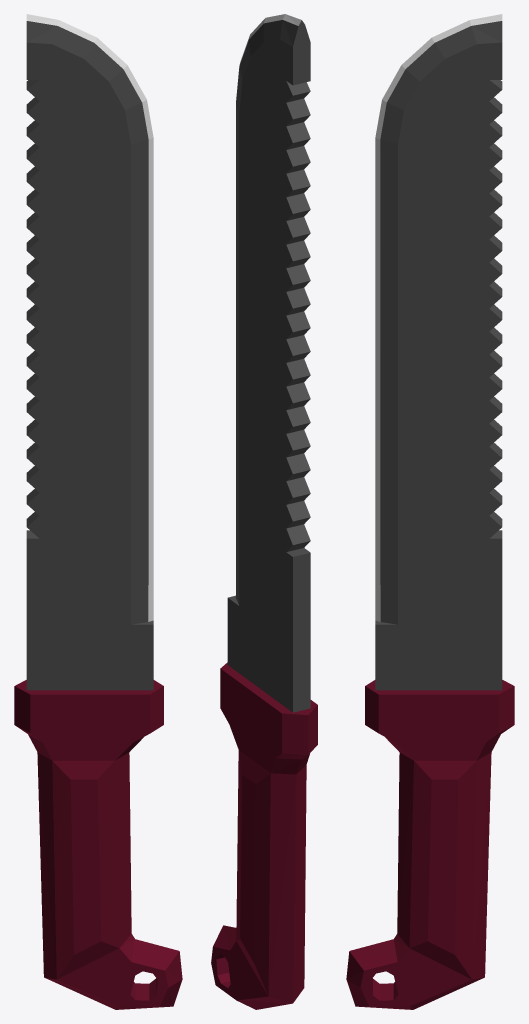
Rendered from Machete.obj.
3 views of the same model, side by side, from view 1: azimuth 90°, elevation 25°; view 2: azimuth 210°, elevation 25°; view 3: azimuth 270°, elevation 25° (orthographic). The views are drawn at different scales.
Parts seen in each view (by area): view 1: Machete_Plane.007; view 2: Machete_Plane.007; view 3: Machete_Plane.007.
Boxes of the visible parts, x1=… form: Machete_Plane.007: x1=14, y1=14, x2=182, y2=1009; Machete_Plane.007: x1=211, y1=14, x2=317, y2=1009; Machete_Plane.007: x1=346, y1=14, x2=514, y2=1009.
Bounding box in the file's own units: 0.0248 × 0.5187 × 0.0794.
